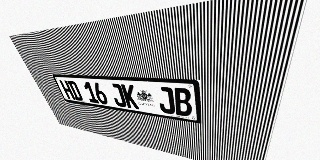1: (82, 82, 99, 103)
6: (91, 82, 109, 105)
B: (173, 87, 192, 117)
D: (67, 81, 84, 101)
H: (59, 80, 76, 100)
J: (156, 86, 175, 115), (109, 83, 127, 107)
K: (121, 84, 139, 109)
